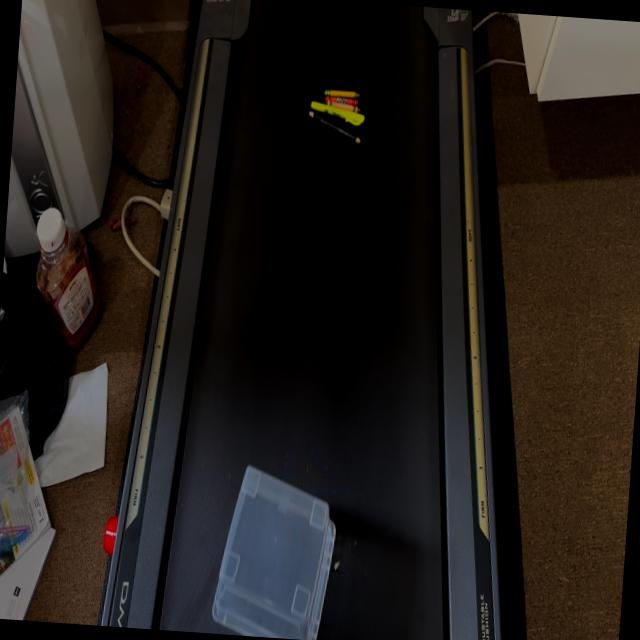Recycle: (204, 423, 364, 640)
Trash: (300, 68, 388, 190)
